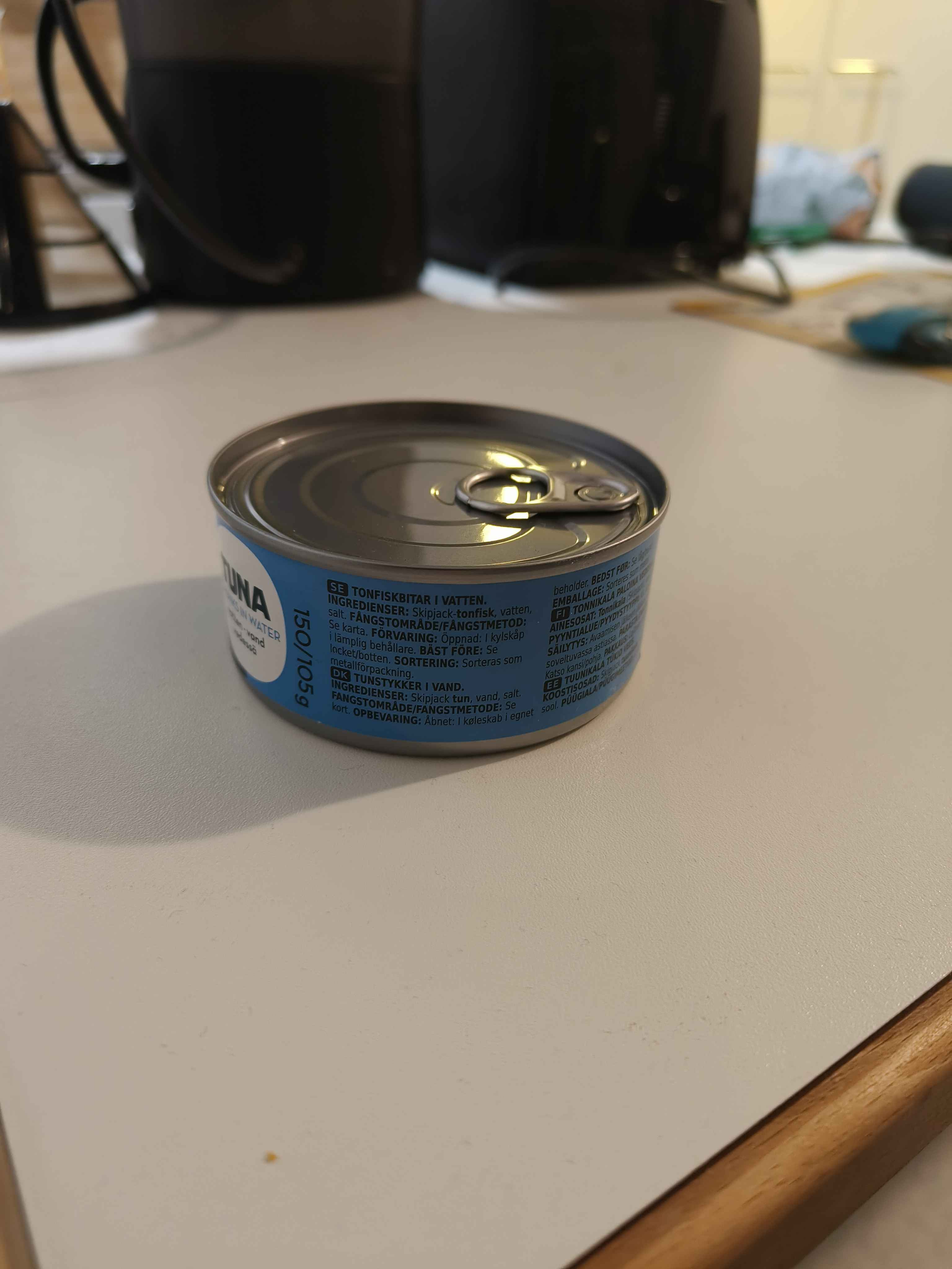Konservburk: (206, 400, 672, 759)
